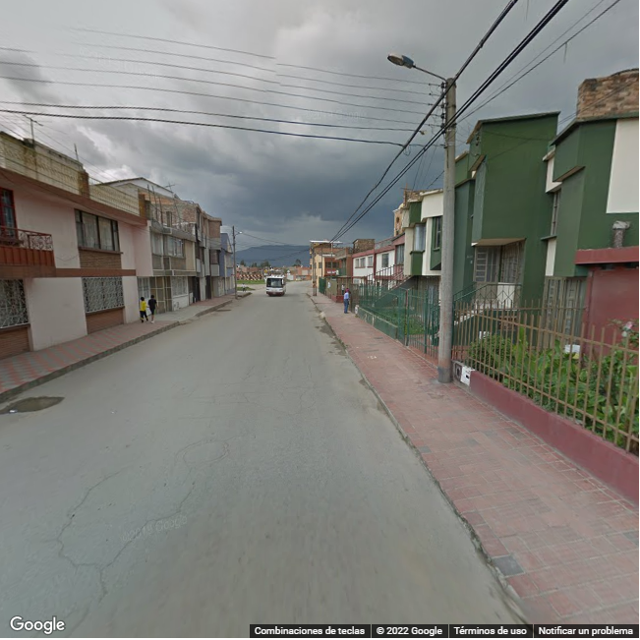D00: (55, 459, 127, 540), (61, 591, 111, 638), (171, 471, 201, 517)
D10: (51, 551, 105, 570), (143, 518, 185, 525)
